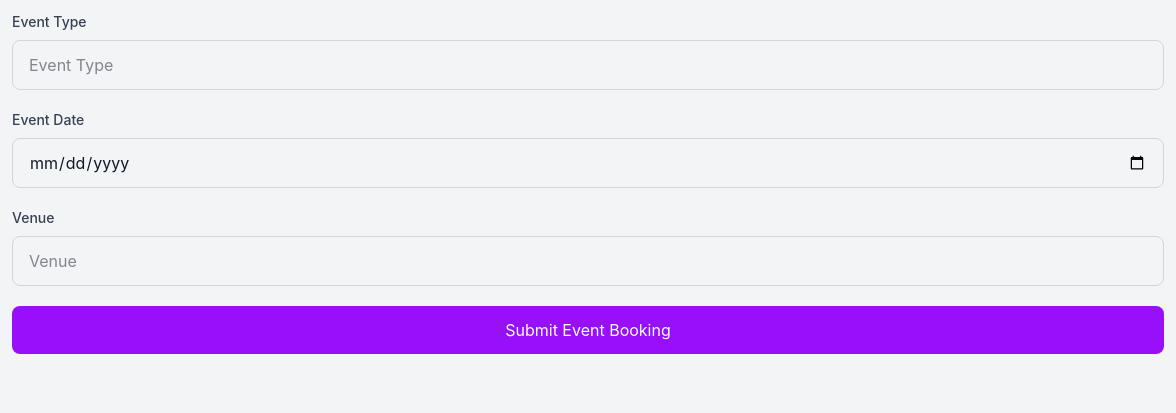
Test case: EventInformation Component › shows message when all fields are empty
The image size is (1176, 413).
Click the button "Submit Event Booking".
click(588, 330)  # box [12,306,1164,354]
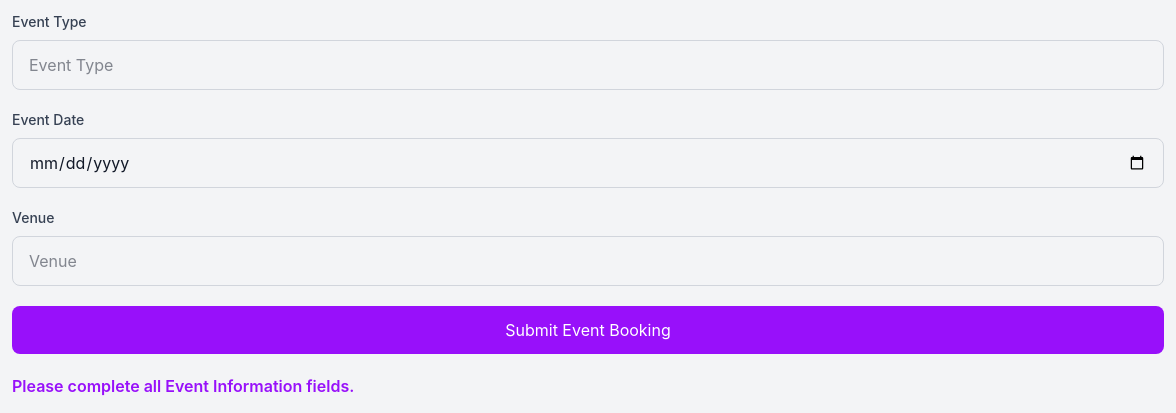
Result: the text "Please complete all Event Information fields." is shown at [12,376,354,396]
